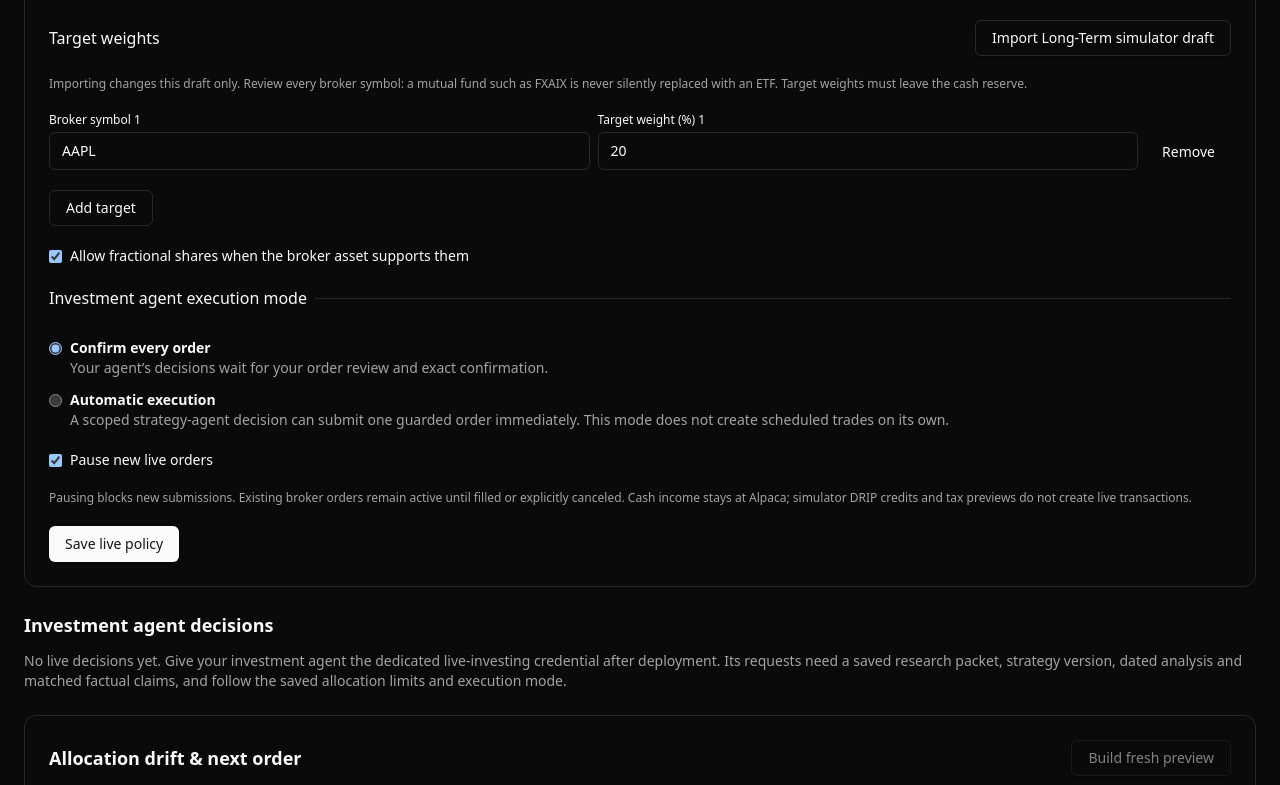
Test case: Long-Term Live workspace › makes automatic mode a deliberate policy choice with exact activation confirmation
The image size is (1280, 785).
(page scrolled)
Click the radio button labelled "Automatic execution" at (56, 400), box x1=49 y1=394 x2=62 y2=407
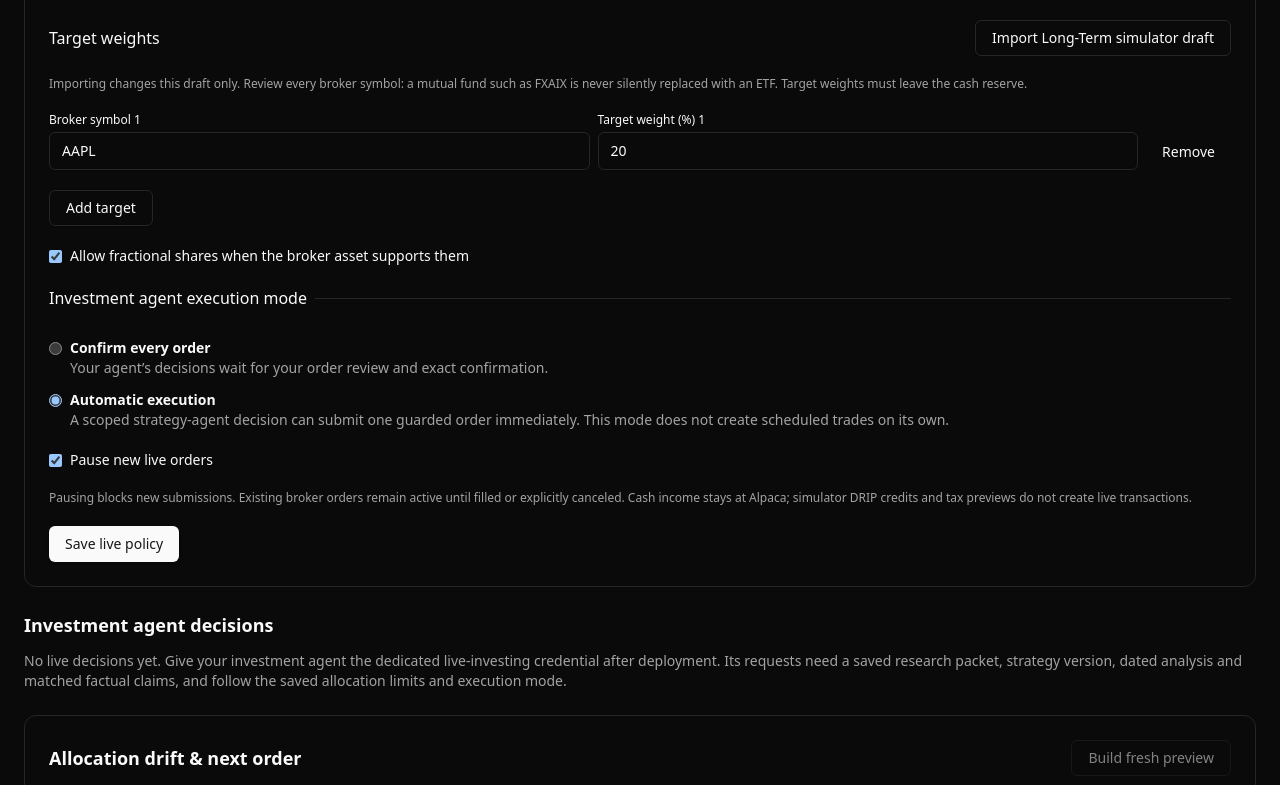
Click the checkbox labelled "Pause new live orders" at (56, 460), box x1=49 y1=454 x2=62 y2=466
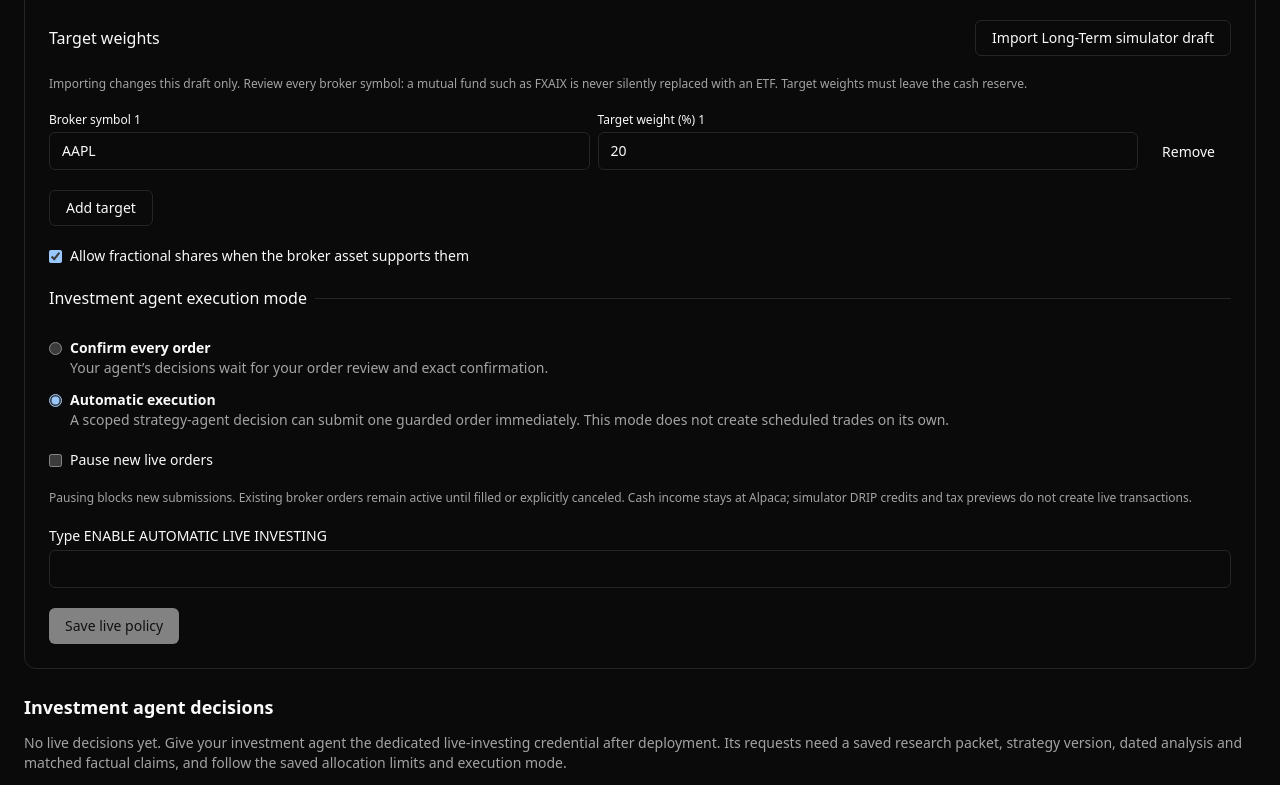
Check: the button "Save live policy" is disabled, box x1=49 y1=608 x2=179 y2=644
Type "ENABLE LIVE INVESTING" into the field labelled "Type ENABLE AUTOMATIC LIVE INVESTING" at (640, 569), box x1=49 y1=550 x2=1231 y2=588
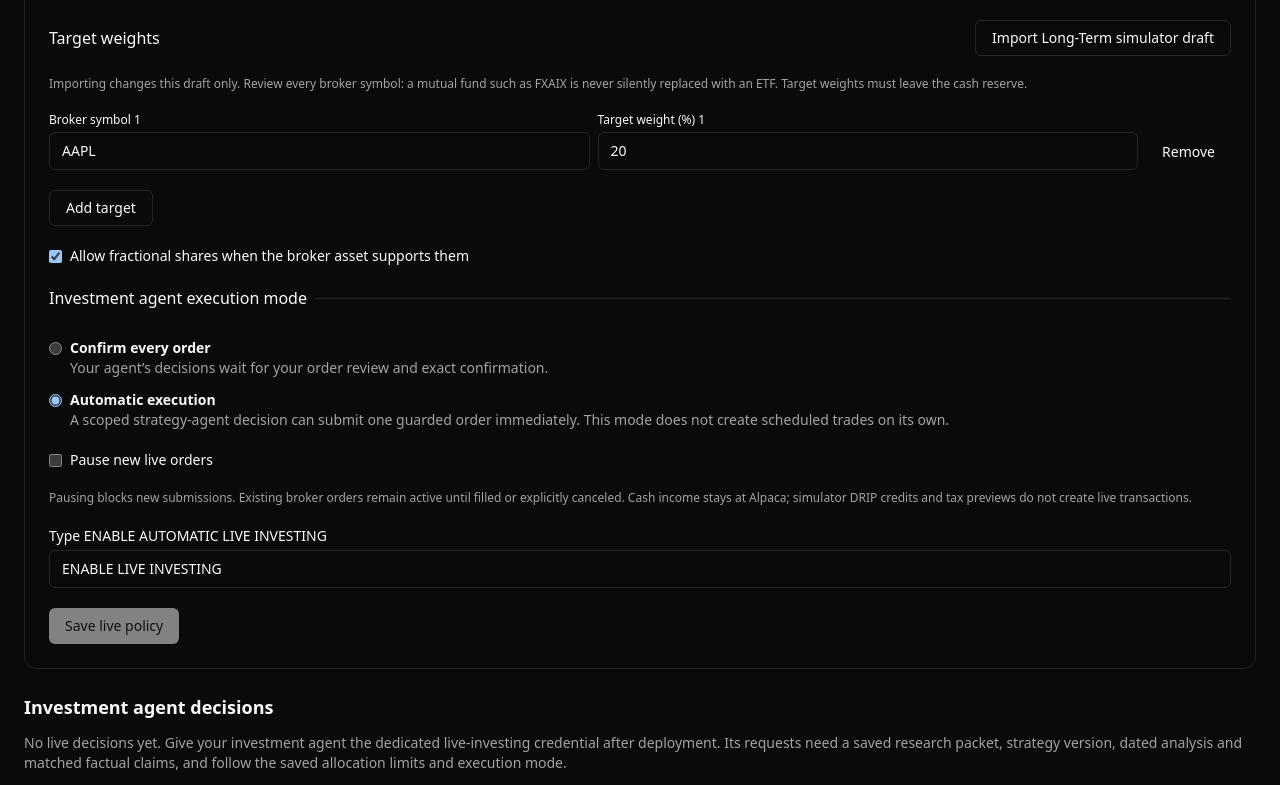
Check: the button "Save live policy" is disabled, box x1=49 y1=608 x2=179 y2=644
Replace the text in the field labelled "Type ENABLE AUTOMATIC LIVE INVESTING" with "ENABLE AUTOMATIC LIVE INVESTING" at (640, 569), box x1=49 y1=550 x2=1231 y2=588
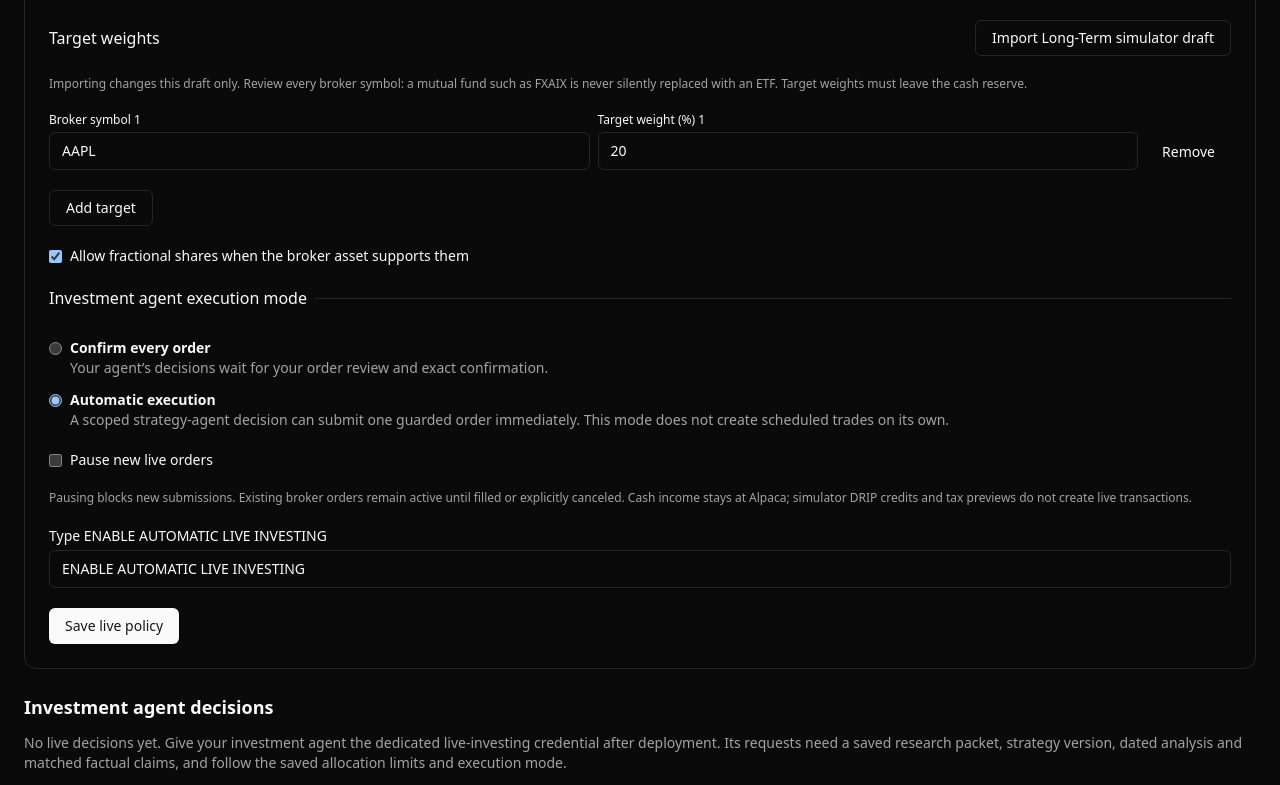
Check: the button "Save live policy" is enabled, box x1=49 y1=608 x2=179 y2=644
